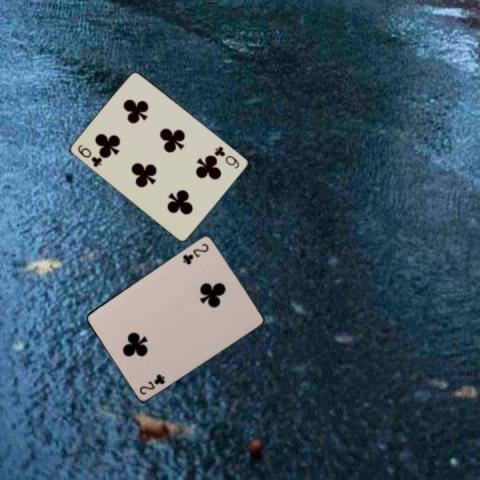2c: (179, 240, 210, 266), (136, 371, 167, 396)
6c: (212, 143, 242, 170), (75, 141, 103, 169)
